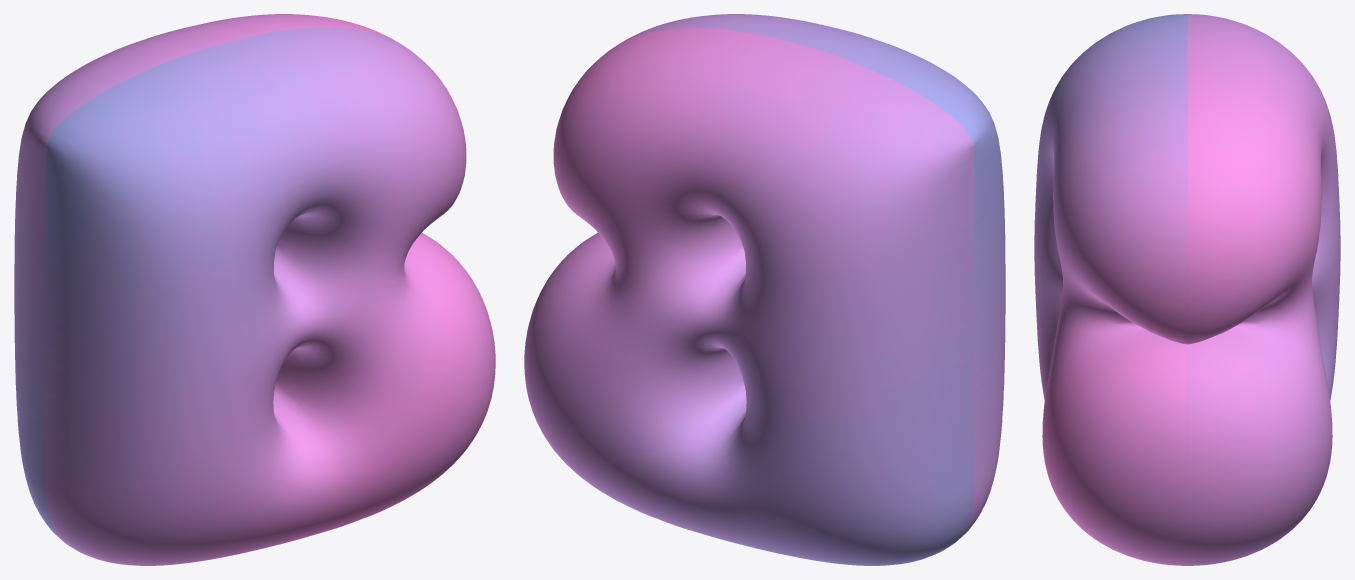
3 views of the same model, side by side, from view 1: azimuth 30°, elevation 25°; view 2: azimuth 150°, elevation 25°; view 3: azimuth 270°, elevation 25° (orthographic). The views are drawn at different scales.
Size of the model in its own units: 0.0238 by 0.0261 by 0.0158.
1 material, 1 textured.
